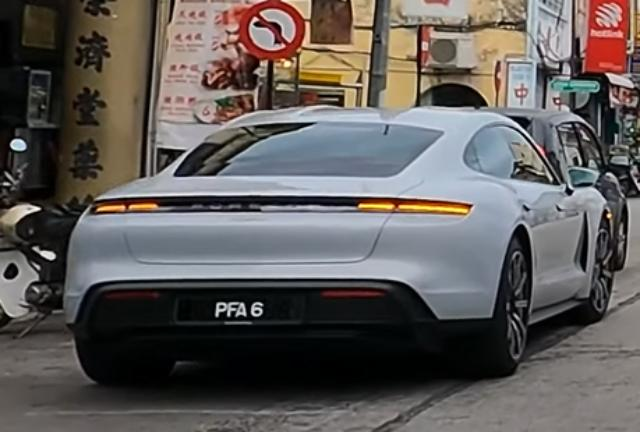License_Plate: (173, 290, 305, 327)
car: (63, 105, 630, 388)
